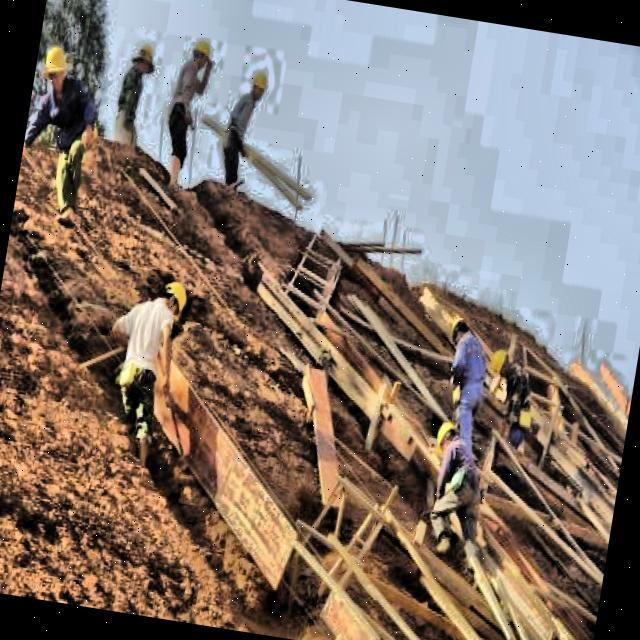helmet: (36, 40, 72, 98), (154, 274, 192, 324), (430, 418, 464, 460), (128, 35, 158, 82), (441, 310, 474, 352), (485, 340, 518, 380), (246, 63, 274, 109), (190, 30, 220, 70)
